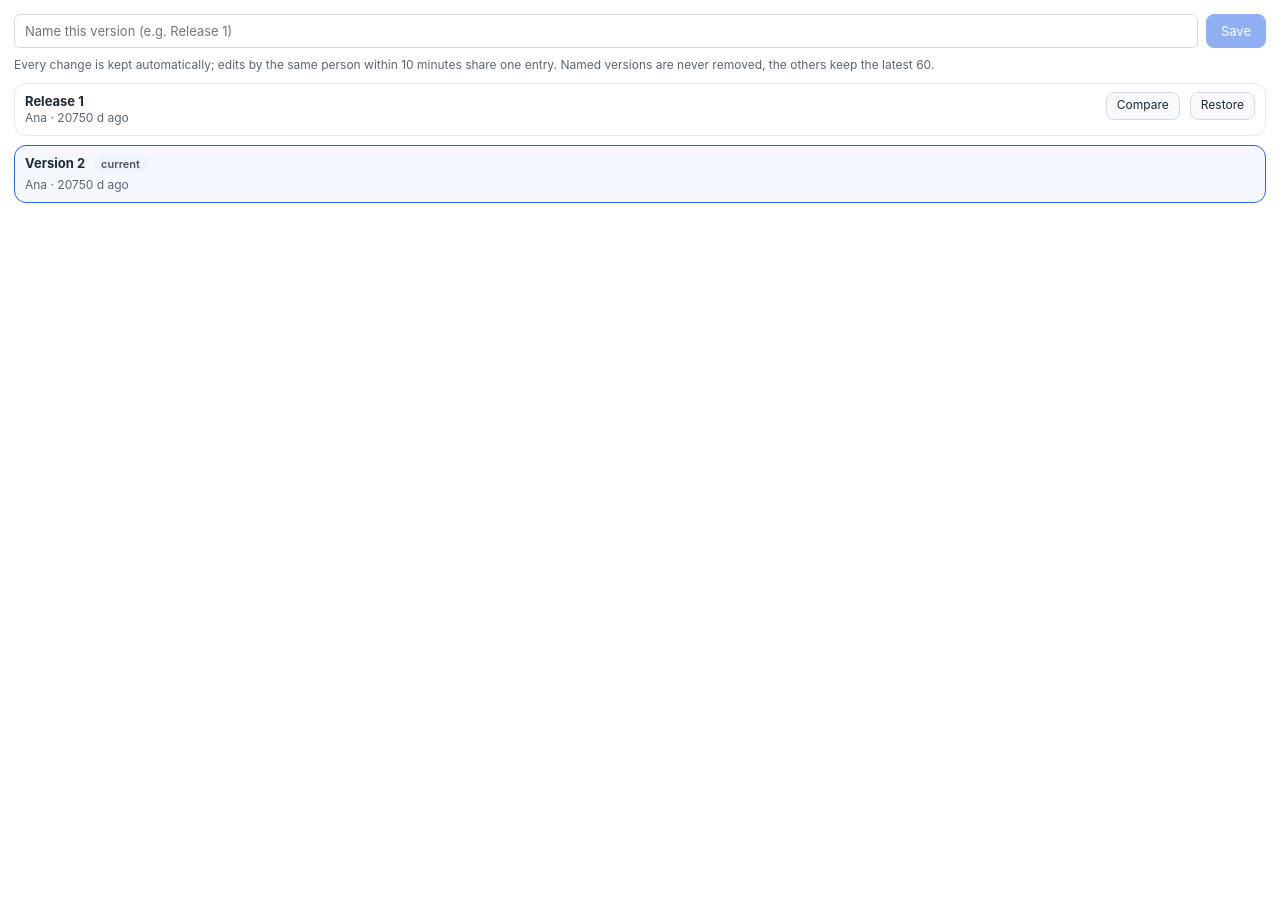
Test case: an old version that does not parse: the structure is not compared, the text diff is shown
The width and height of the screenshot is (1280, 900).
What coordinates should you click on to do the following:
click the button "Compare"
I would click on:
 (1143, 106)
Its box is top-left (1106, 92), bottom-right (1180, 120).
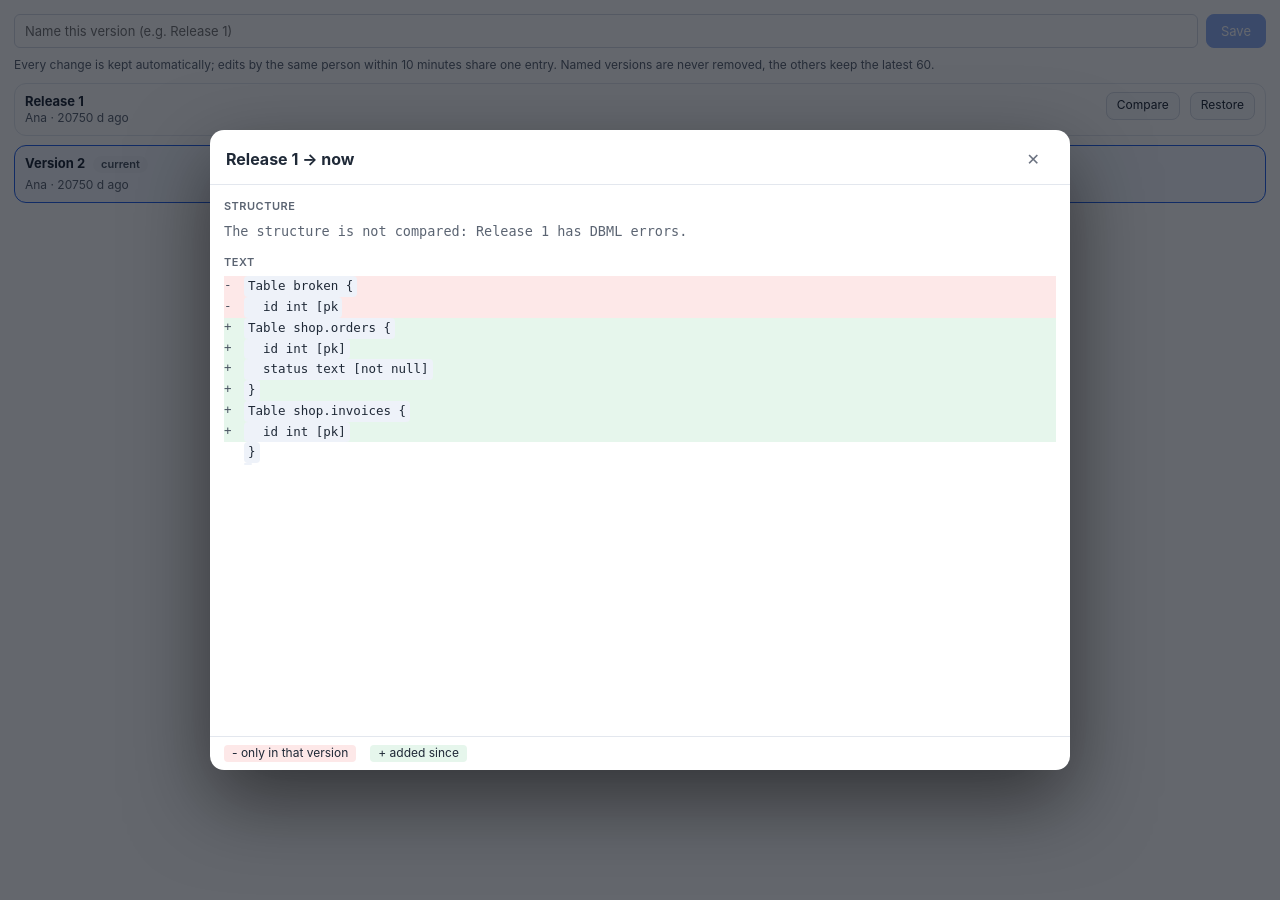
Expected: the text "The structure is not compared: Release 1 has DBML errors." is shown, top-left (224, 223), bottom-right (687, 239)
Expected: the element with class "add" showing "+ Table shop.orders {" is shown, top-left (224, 318), bottom-right (1056, 339)
